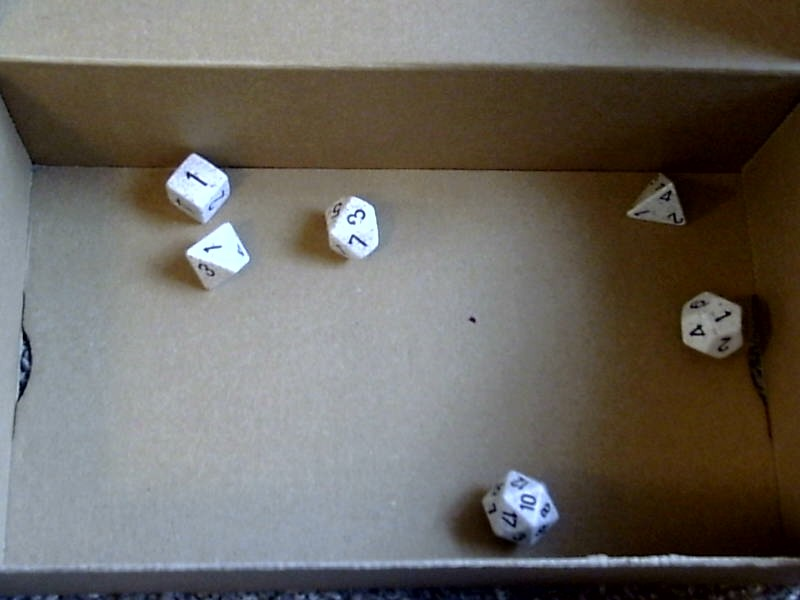d10 3: (318, 190, 384, 263)
d12 1: (675, 284, 750, 366)
d20 10: (476, 464, 569, 557)
d4 4: (625, 167, 690, 234)
d6 1: (157, 146, 231, 224)
d8 1: (182, 221, 256, 292)
